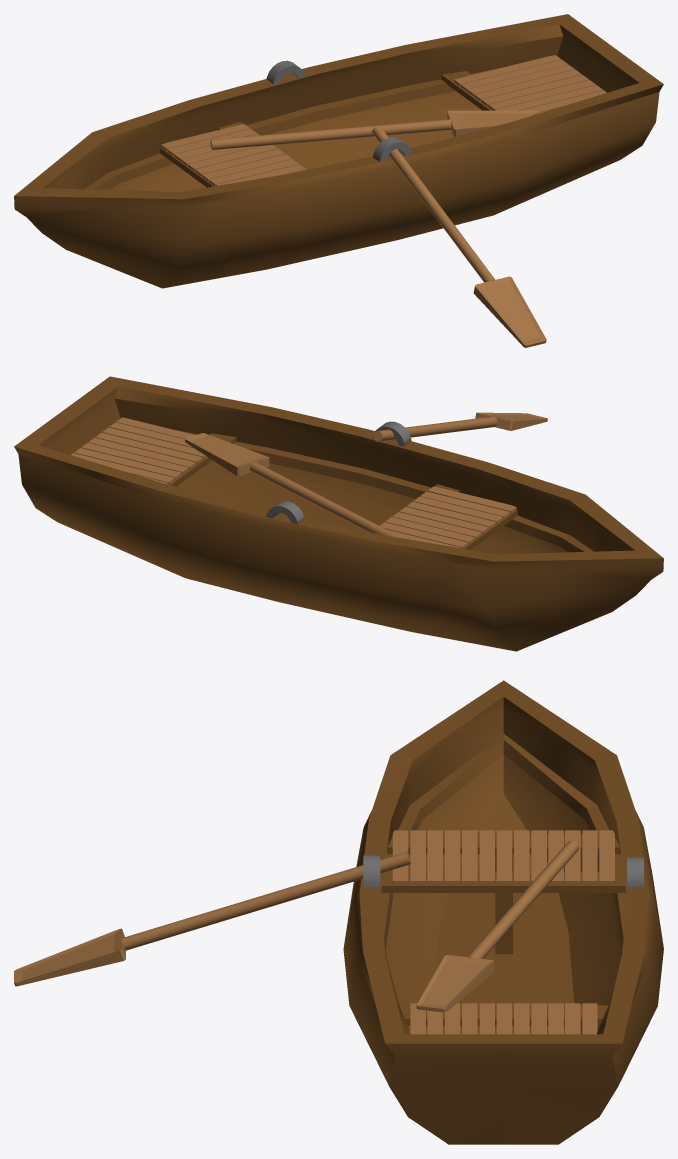
Rendered from Boat.fbx.
3 views of the same model, one above another, from view 1: azimuth 30°, elevation 25°; view 2: azimuth 150°, elevation 25°; view 3: azimuth 270°, elevation 25° (orthographic). The views are drawn at different scales.
Visible parts, largest first — view 1: Boat; view 2: Boat; view 3: Boat.
Boxes of the visible parts, <box> form: Boat: <box>14,14,663,347</box>; Boat: <box>14,376,663,651</box>; Boat: <box>14,680,663,1144</box>.
Bounding box in the file's own units: 9.18 × 1.84 × 6.94.
